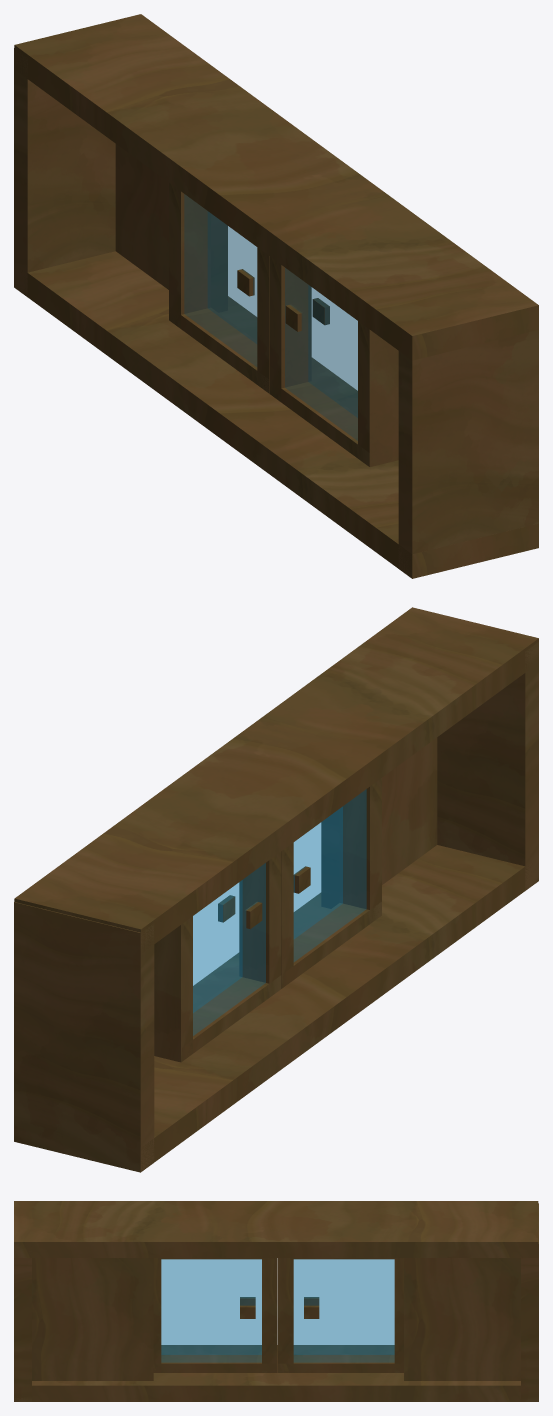
Rendered from janelaF.fbx.
3 renders of one model, top to bottom at view 1: azimuth 30°, elevation 25°; view 2: azimuth 150°, elevation 25°; view 3: azimuth 270°, elevation 25°, orthographic. The views are drawn at different scales.
Parts seen in each view (by area): view 1: Cube.146, Cube.157, Cube.148, Cube.147, Cube.156, Cube.139, Cube.149, Cube.141, Cube.152, Cube.143, Cube.153, Cube.142 (+1 smaller); view 2: Cube.146, Cube.147, Cube.157, Cube.148, Cube.139, Cube.156, Cube.158, Cube.152, Cube.141, Cube.154, Cube.142, Cube.153 (+1 smaller); view 3: Cube.146, Cube.158, Cube.149, Cube.157, Cube.156, Cube.139, Cube.147, Cube.148, Cube.153, Cube.142, Cube.143, Cube.154 (+2 smaller).
Part boxes in pixels (x1,y1,x2,y2): Cube.146: [14, 14, 538, 360]; Cube.157: [14, 251, 538, 578]; Cube.148: [398, 330, 538, 577]; Cube.147: [14, 48, 115, 296]; Cube.156: [184, 194, 257, 366]; Cube.139: [285, 268, 357, 440]; Cube.149: [115, 144, 227, 312]; Cube.141: [358, 321, 398, 466]; Cube.152: [169, 183, 210, 328]; Cube.143: [269, 256, 311, 401]; Cube.153: [170, 307, 269, 393]; Cube.142: [281, 381, 369, 466]; Cube.146: [14, 607, 538, 952]; Cube.147: [14, 902, 154, 1172]; Cube.157: [141, 845, 530, 1171]; Cube.148: [437, 642, 538, 890]; Cube.139: [293, 789, 366, 961]; Cube.156: [193, 863, 265, 1035]; Cube.158: [321, 737, 437, 908]; Cube.152: [154, 916, 192, 1062]; Cube.141: [339, 778, 381, 922]; Cube.154: [239, 852, 281, 992]; Cube.142: [282, 901, 381, 987]; Cube.153: [182, 975, 281, 1061]; Cube.146: [14, 1201, 538, 1257]; Cube.158: [32, 1258, 153, 1380]; Cube.149: [404, 1258, 520, 1380]; Cube.157: [14, 1345, 520, 1401]; Cube.156: [293, 1259, 394, 1362]; Cube.139: [161, 1259, 261, 1362]; Cube.147: [521, 1203, 538, 1401]; Cube.148: [14, 1244, 31, 1401]; Cube.153: [278, 1354, 403, 1372]; Cube.142: [153, 1354, 276, 1372]; Cube.143: [262, 1258, 277, 1372]; Cube.154: [278, 1258, 293, 1372].
Size of the model in its own units: 161 by 294 by 875.
